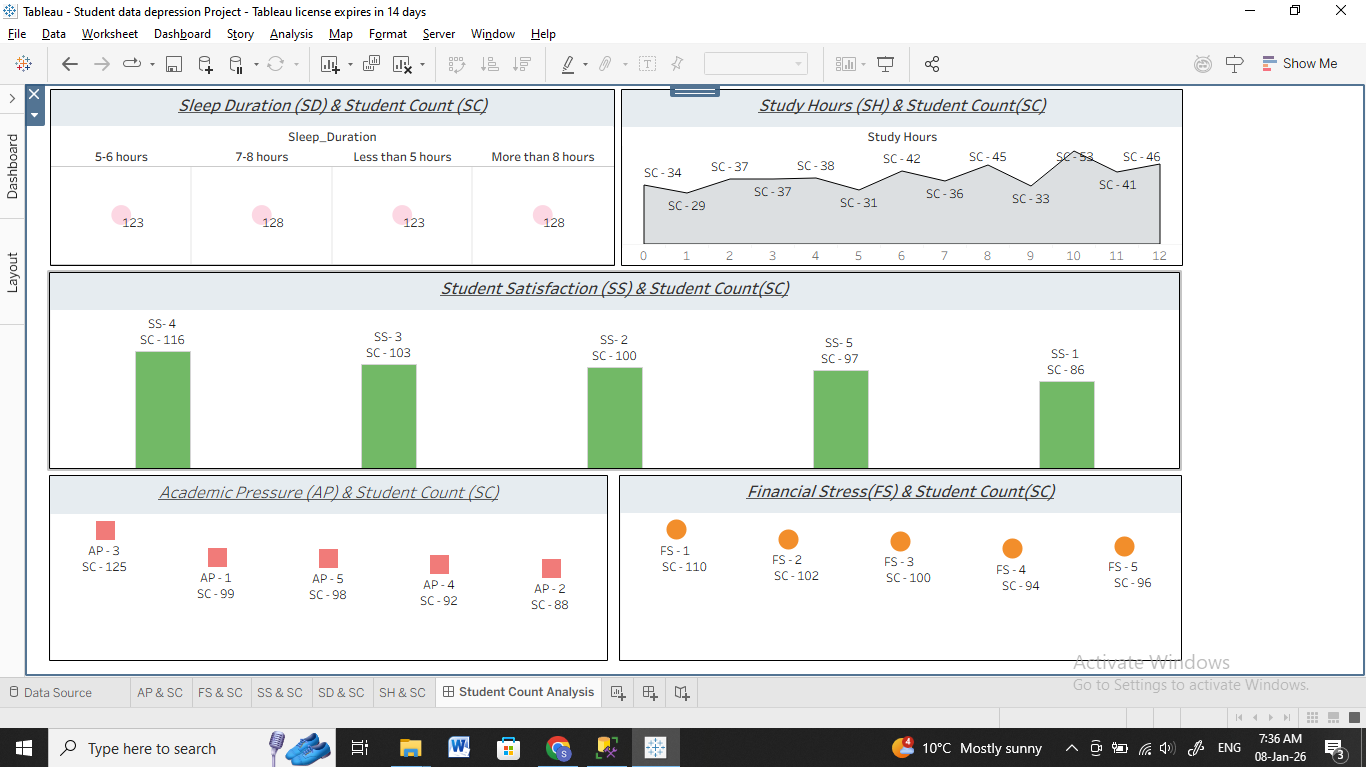

The page's visual inventory and layout, read from the dashboard file:
{"tool":"tableau","page":{"name":"Student Count Analysis","canvas":[1000,1000],"units":"permille","ordinal":0},"visuals":[{"type":"worksheet","title":"SD & SC","mark":"Pie","cols":["Sleep_Duration"],"box":[18.7,8.4,421.3,299]},{"type":"worksheet","title":"SH & SC","mark":"Area","rows":["index_column"],"cols":["Study_Hours"],"box":[444.8,8.4,419.4,299]},{"type":"worksheet","title":"SS & SC","mark":"Bar","rows":["index_column"],"cols":["Study_Satisfaction"],"box":[17.9,317.6,844,332.8]},{"type":"worksheet","title":"AP & SC","mark":"Square","rows":["index_column"],"cols":["Academic_Pressure"],"box":[17.9,660.5,417.2,314.2]},{"type":"worksheet","title":"FS & SC","mark":"Circle","rows":["index_column"],"cols":["Financial_Stress"],"box":[443.6,660.5,420.4,314.2]}]}

Visuals, with their boxes on the dashboard's canvas, which has no fixed pixel size, in thousandths of its width and height (x1, y1, x2, y2). These are canvas units, not pixel positions in the 1366x767 screenshot, which may show the page scaled, cropped or inside an application window:
"SD & SC" worksheet (Pie marks): bbox=(19, 8, 440, 307)
"SH & SC" worksheet (Area marks): bbox=(445, 8, 864, 307)
"SS & SC" worksheet (Bar marks): bbox=(18, 318, 862, 650)
"AP & SC" worksheet (Square marks): bbox=(18, 660, 435, 975)
"FS & SC" worksheet (Circle marks): bbox=(444, 660, 864, 975)
